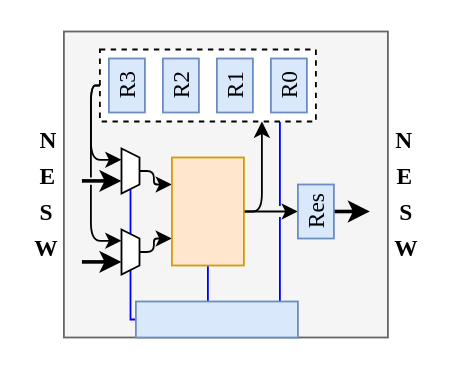
This 450x369 diagram has some shape labels left out. Here are the shapes that lost their labels. From the top down, the box of each, then its label:
(170, 156, 244, 266): ALU
(134, 300, 298, 338): Configuration
